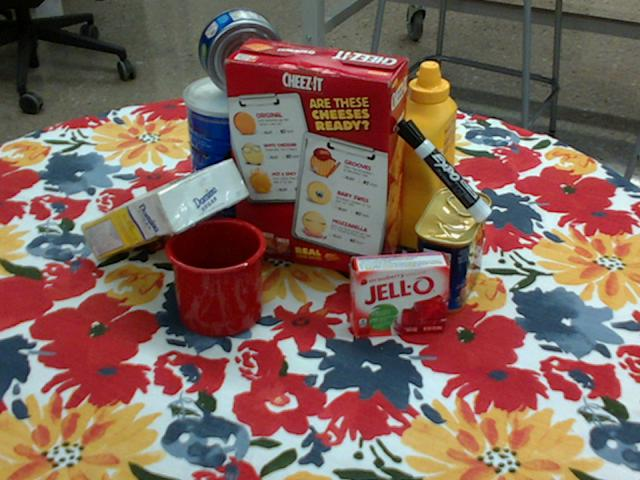cracker_box: (223, 39, 407, 278)
gelatin_box: (350, 251, 450, 338)
large_marker: (396, 119, 492, 222)
master_chef_can: (183, 73, 280, 229)
mug: (164, 216, 267, 337)
mustard_bottle: (394, 62, 457, 250)
potted_meat_can: (414, 187, 492, 313)
sugar_box: (78, 160, 248, 261)
tomato_soup_can: (337, 105, 398, 211)
tuna_fish_can: (196, 9, 282, 96)
